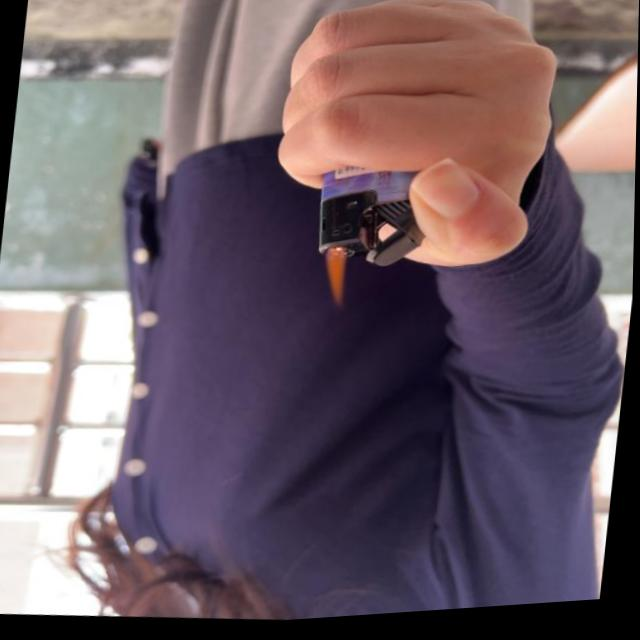Fire: (318, 250, 350, 314)
